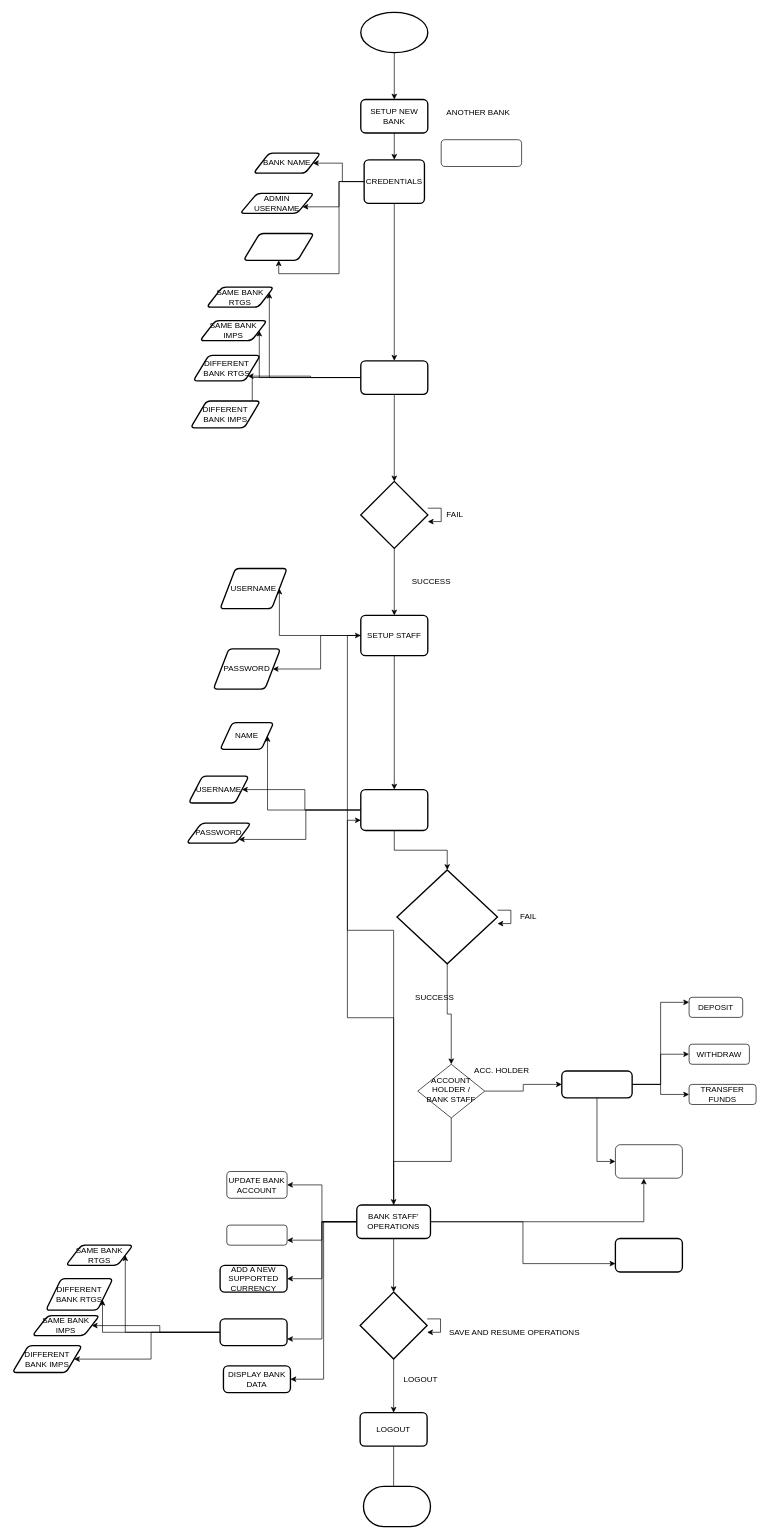
Some shapes in this 768 by 1538 pixel diagram are drawn without their labels. The shapes that lost their labels are listed below. From the top down, each one's box as (x1, y1, x2, y2) in pixels, then its label:
(360, 11, 428, 53): START
(441, 139, 522, 166): SET RTGS & IMPS CHARGES
(243, 232, 314, 261): ADMIN PASSWORD
(360, 360, 428, 395): APPLY SERVICE CHARGES
(360, 480, 428, 549): ADMIN LOGIN
(360, 789, 428, 831): SETUP EMPLOYEE
(396, 869, 498, 964): USER LOGIN
(561, 1070, 632, 1098): ACCOUNT HOLDER'S OPERATIONS
(615, 1144, 682, 1178): VIEW TRANSACTION HISTORY
(226, 1224, 287, 1245): DELETE ACCOUNT
(614, 1237, 683, 1272): REVERT BACK A TRANSACTION
(219, 1318, 287, 1346): UPDATE SERVICE CHARGES
(359, 1291, 427, 1359): OTHER OPTIONS
(362, 1485, 431, 1527): STOP
